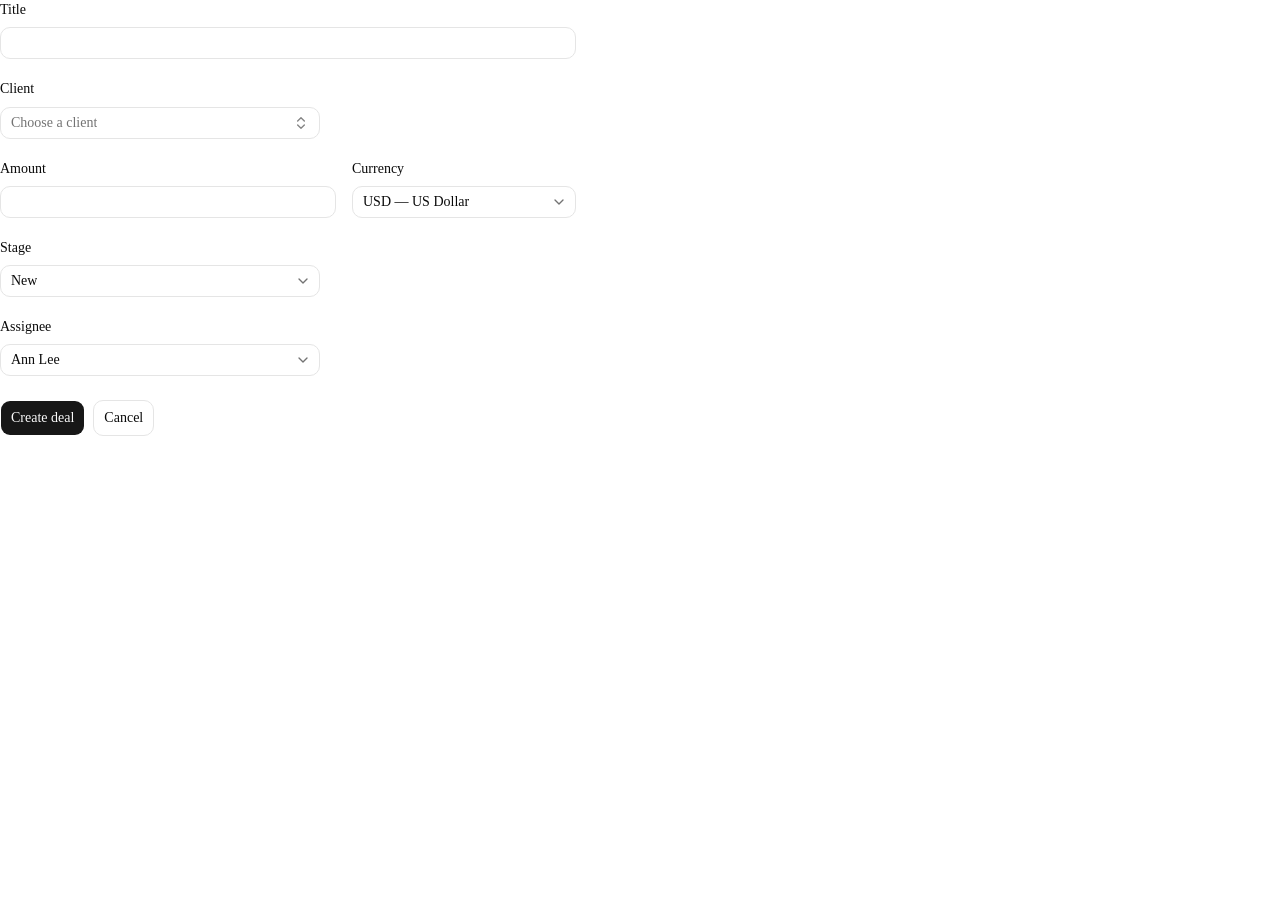
deal form › create › should say so in the status region when the search finds no clients
Click the dropdown labelled "client" at (54, 122), box x1=0 y1=106 x2=320 y2=138
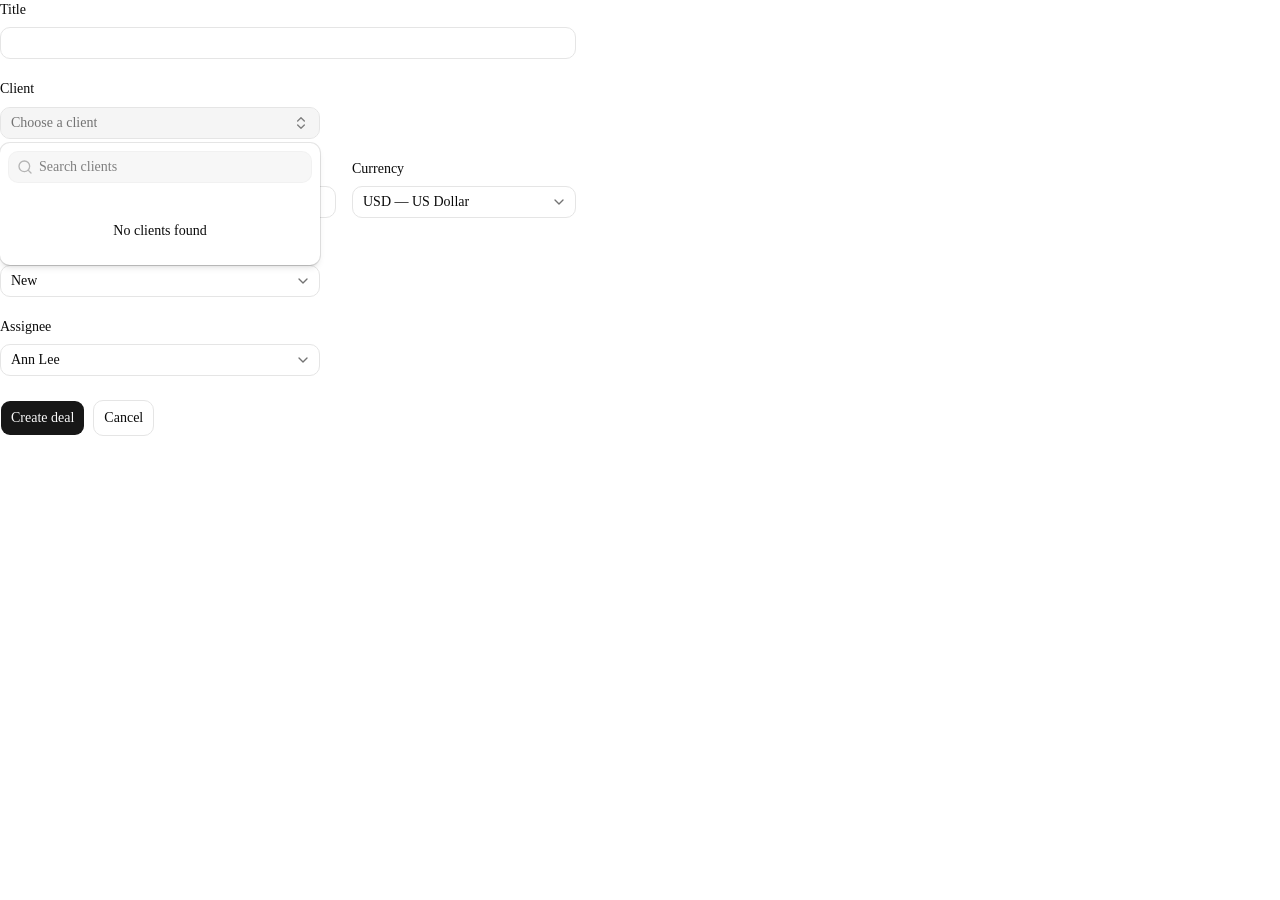
Now the message reads "No clients found", box x1=113 y1=223 x2=207 y2=238
